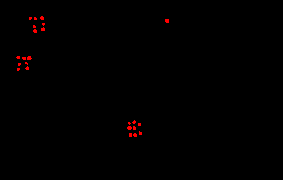Target: (27, 56, 32, 60), (127, 126, 132, 130), (40, 16, 44, 20), (165, 19, 169, 23), (41, 27, 45, 31), (33, 29, 37, 33), (25, 66, 29, 70), (132, 120, 136, 124), (133, 133, 137, 137), (16, 56, 20, 59), (22, 57, 26, 60), (133, 126, 136, 130), (139, 131, 142, 135), (129, 133, 132, 137), (29, 17, 32, 20), (34, 17, 37, 20), (42, 23, 45, 26), (33, 25, 36, 28), (25, 62, 28, 65), (18, 63, 21, 66), (17, 68, 20, 71), (128, 122, 131, 125), (138, 123, 141, 126)
